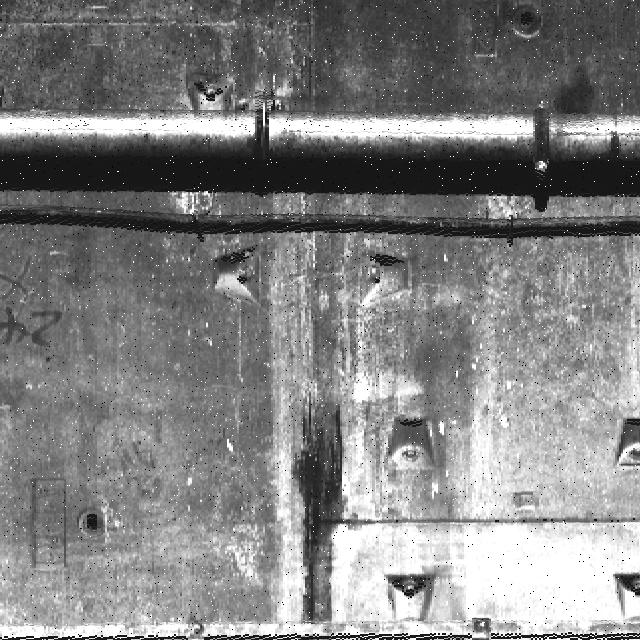leakage: (289, 380, 371, 640), (547, 65, 602, 125)
